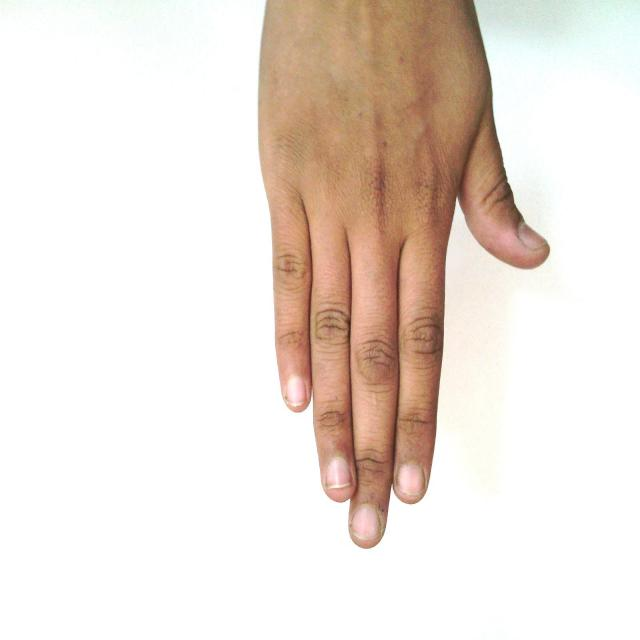others: (199, 1, 566, 554)
